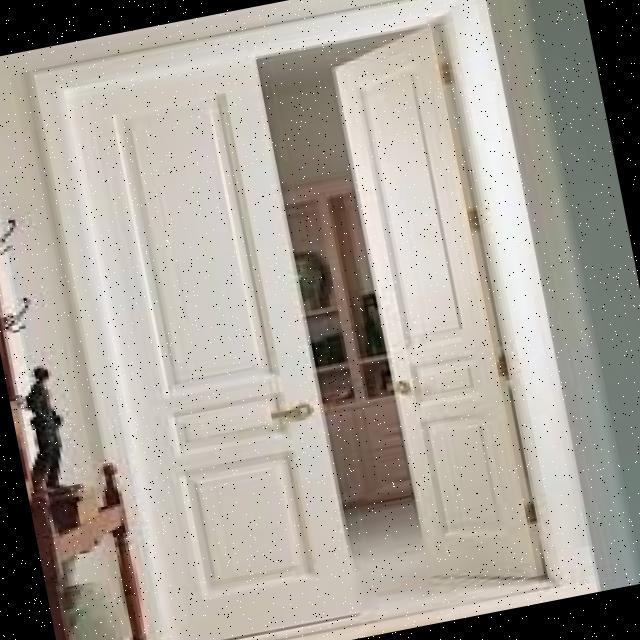Door: (54, 47, 374, 640), (316, 4, 572, 606)
